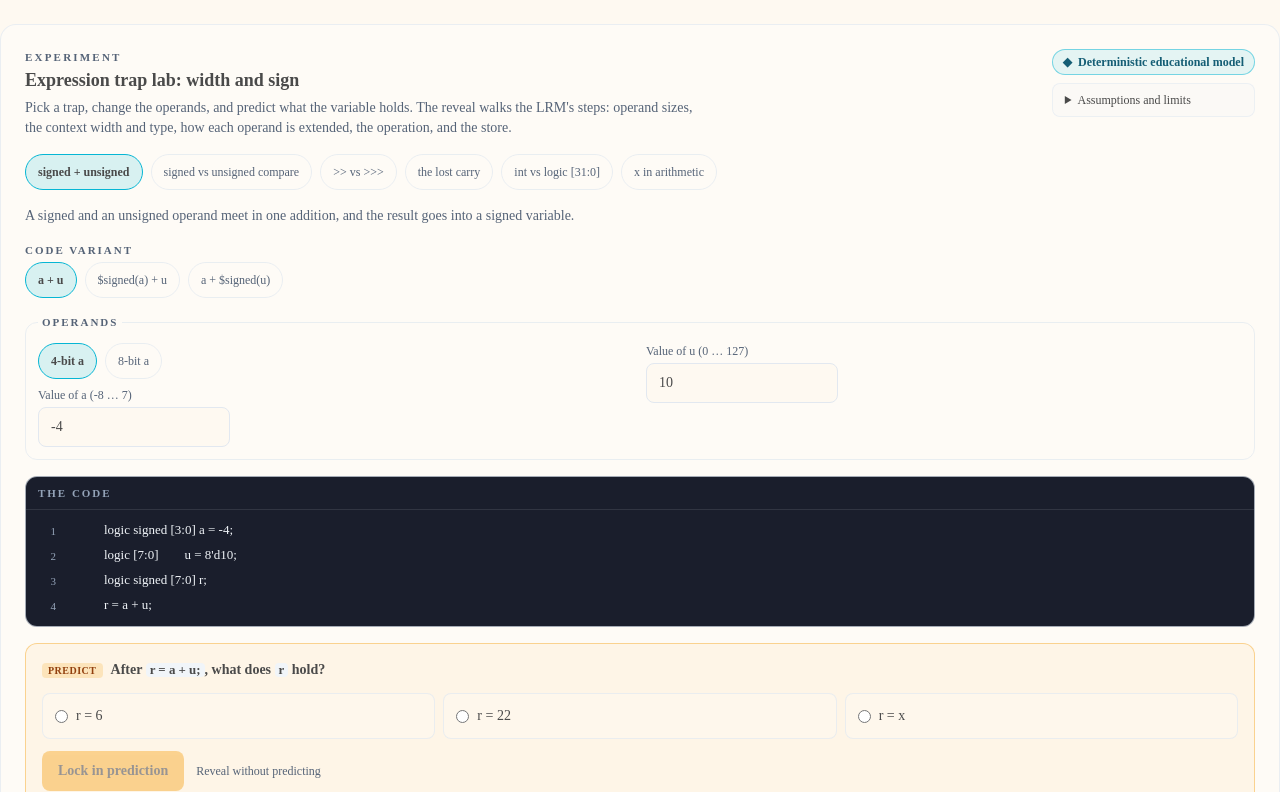
Test: SignednessVisualizer (expression trap lab) › hides the trace until a prediction is locked in, then diagnoses the ordinary-math answer
Expected: the text "r = a + u;" below "logic signed [7:0] r;" is shown, [104,597,152,612]
Expected: the button "Lock in prediction" is disabled, [42,751,184,791]
Click the radio button labelled "r = 6" at (62, 716), box [55,710,68,723]
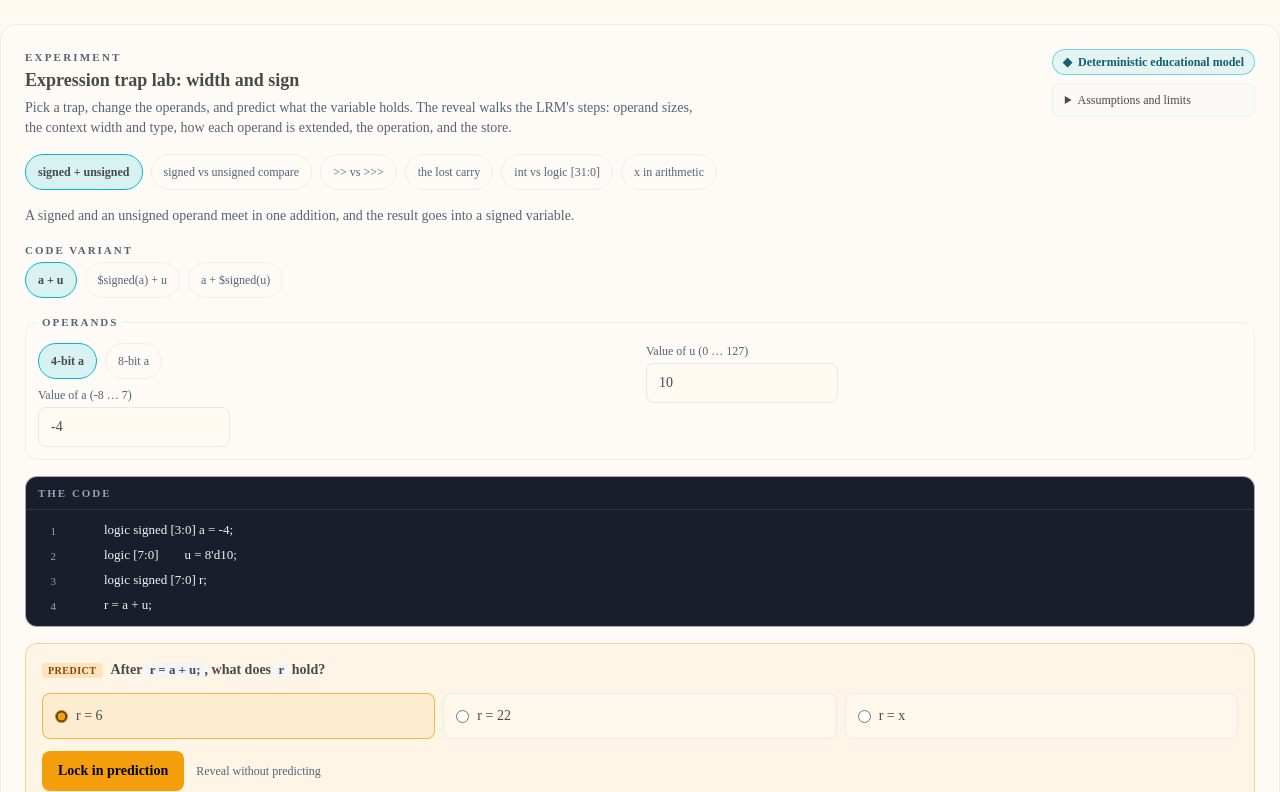
Click the button "Lock in prediction" at (113, 771), box [42,751,184,791]
(page scrolled)
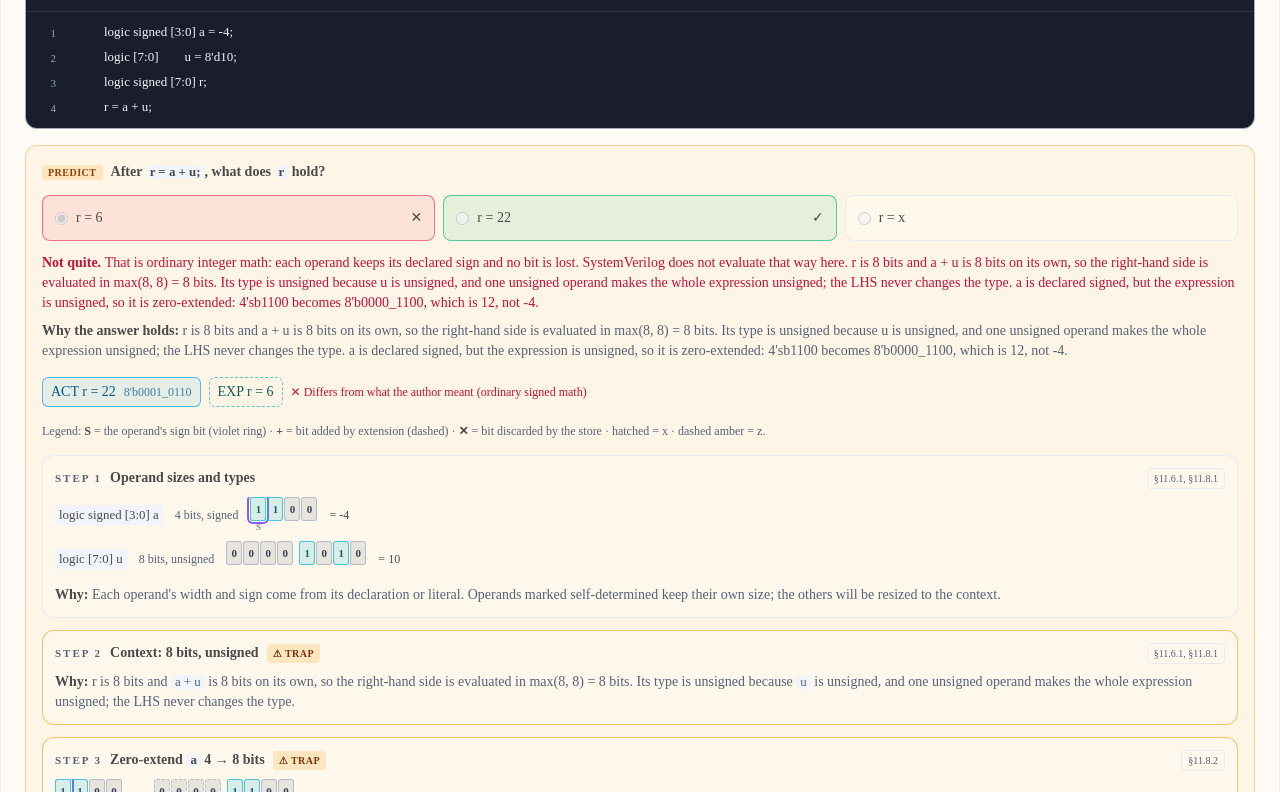
Expected: the text "Not quite." is shown, [42,255,105,270]
Expected: the text "ordinary integer math" is shown, [42,255,1235,310]
Expected: the text "Zero-extend a 4 → 8 bits" is shown, [110,750,265,770]
